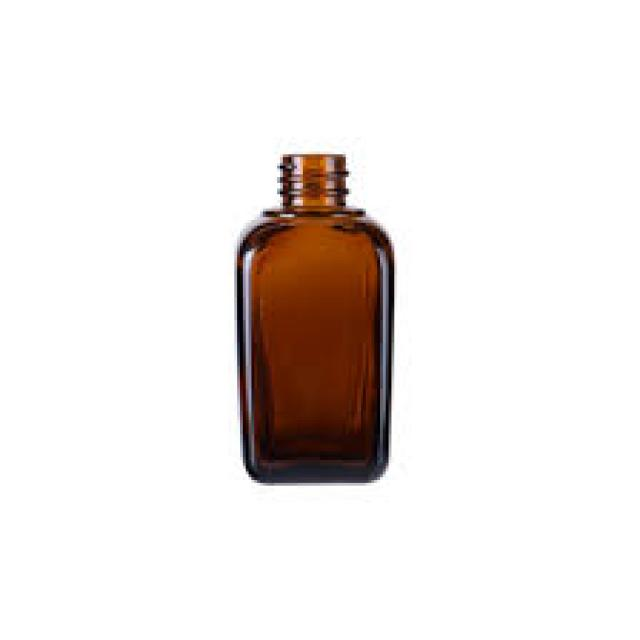glass: (229, 149, 394, 480)
